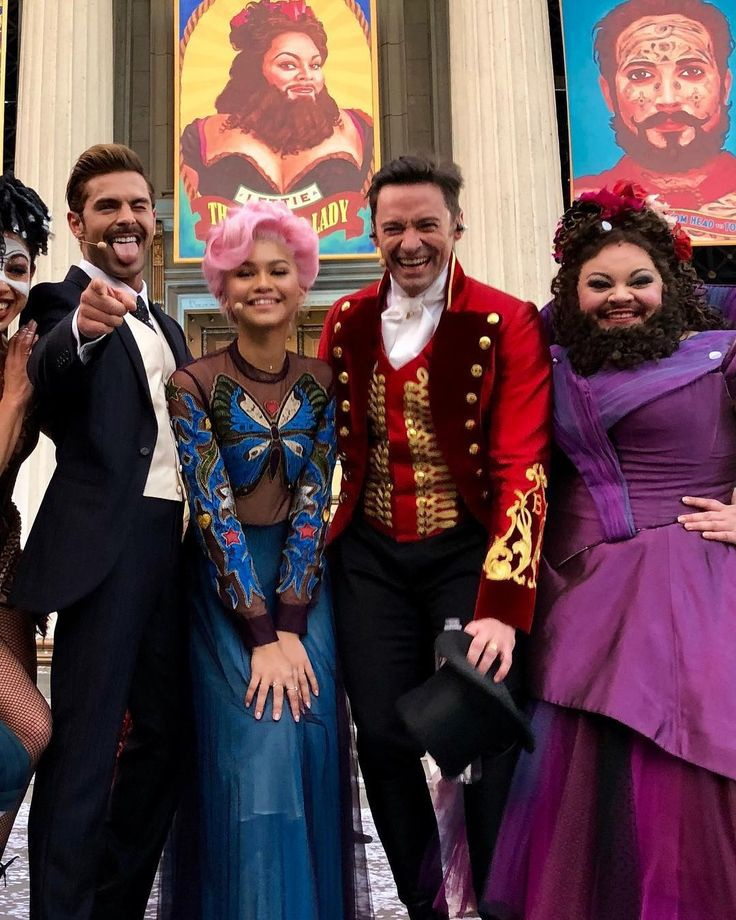bad: (597, 39, 726, 168), (573, 255, 663, 345), (364, 206, 454, 295), (262, 38, 337, 113), (88, 188, 162, 262), (229, 246, 303, 320)
